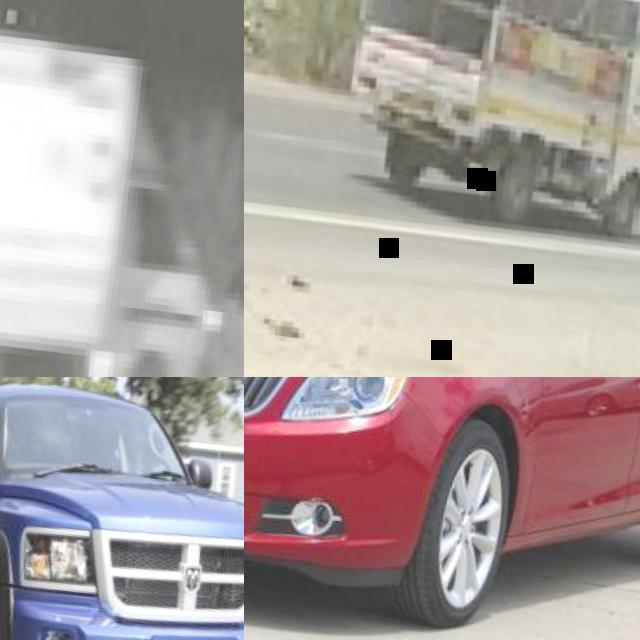car: (242, 378, 640, 612), (2, 370, 245, 638)
